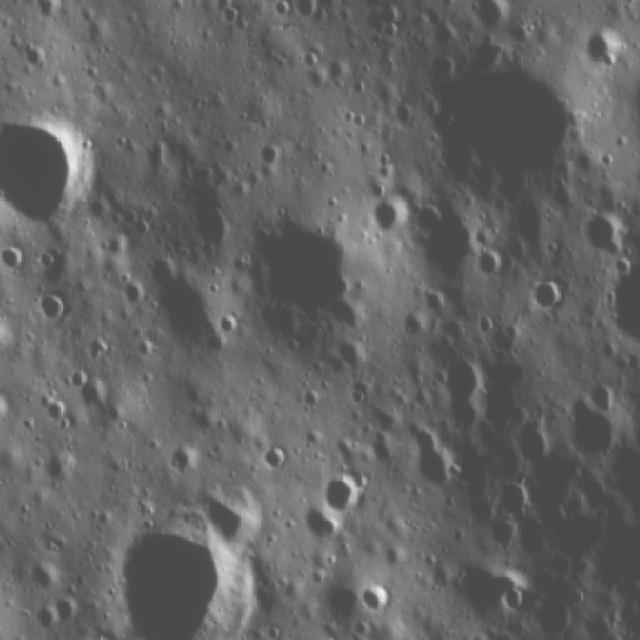crater: (428, 62, 586, 186), (110, 516, 267, 639), (244, 215, 364, 332), (2, 110, 96, 238), (428, 346, 495, 436), (558, 388, 622, 461), (403, 435, 469, 497), (504, 410, 558, 473), (320, 466, 377, 516), (568, 24, 630, 68), (578, 206, 628, 256), (31, 590, 78, 633), (492, 475, 534, 523), (532, 594, 578, 637), (366, 193, 409, 238), (71, 366, 111, 414), (352, 580, 397, 617), (528, 276, 570, 313), (36, 288, 72, 330), (473, 245, 512, 282), (27, 554, 64, 592), (260, 442, 297, 480), (470, 3, 512, 32), (398, 306, 432, 340), (496, 584, 533, 614), (388, 98, 419, 130), (253, 140, 284, 166)
